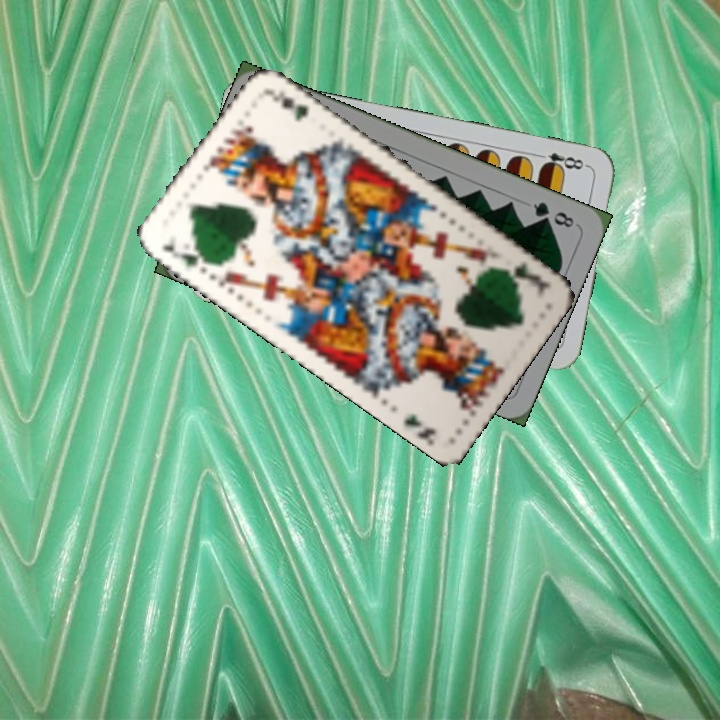E8: (532, 148, 591, 174)
G8: (529, 197, 577, 231)
GK: (499, 256, 553, 294), (158, 239, 213, 270)
